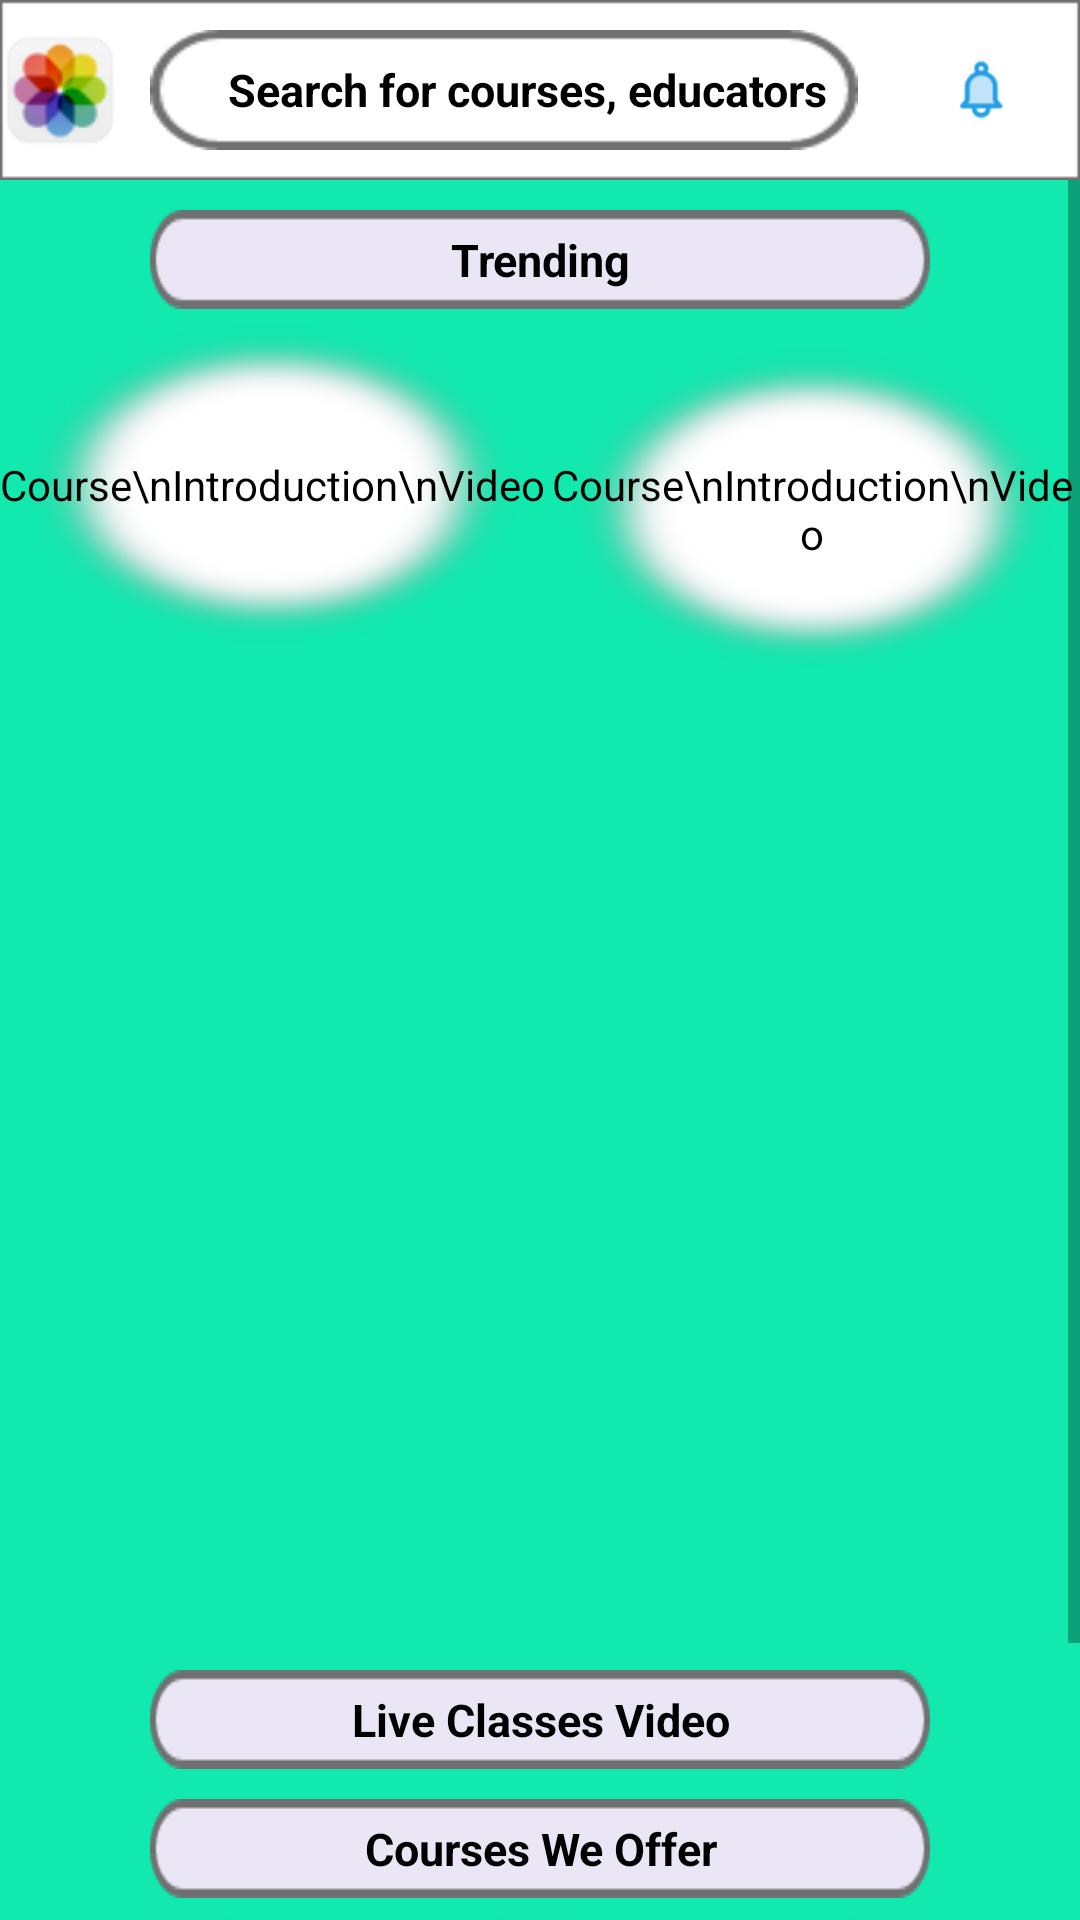

Icon bounding boxes for this 1080 × 1920 phone screenshot, format [left=x1, top=y1, right=x2, bottom=y2]:
bell: [left=960, top=60, right=1003, bottom=119]
